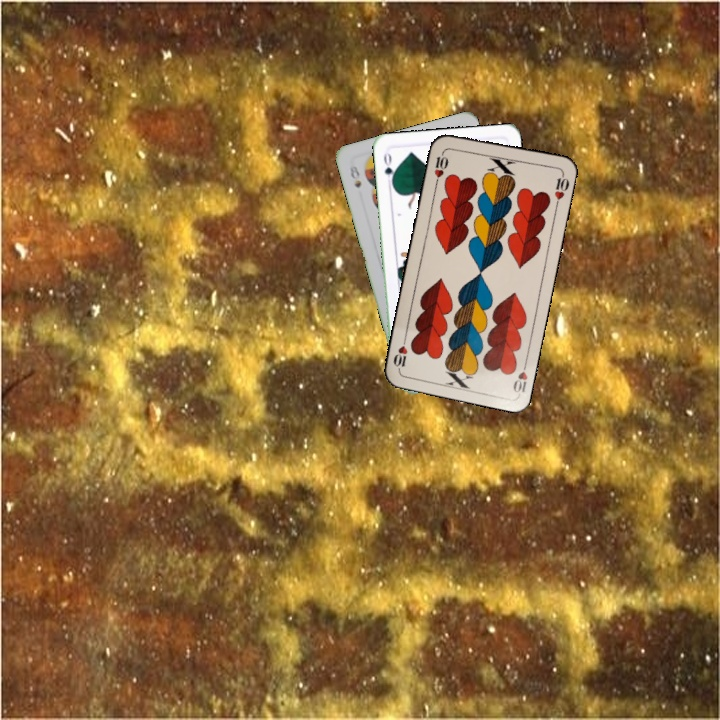GO: (380, 148, 398, 189)
H10: (509, 356, 530, 397), (430, 147, 451, 187)
S8: (346, 161, 364, 190)
